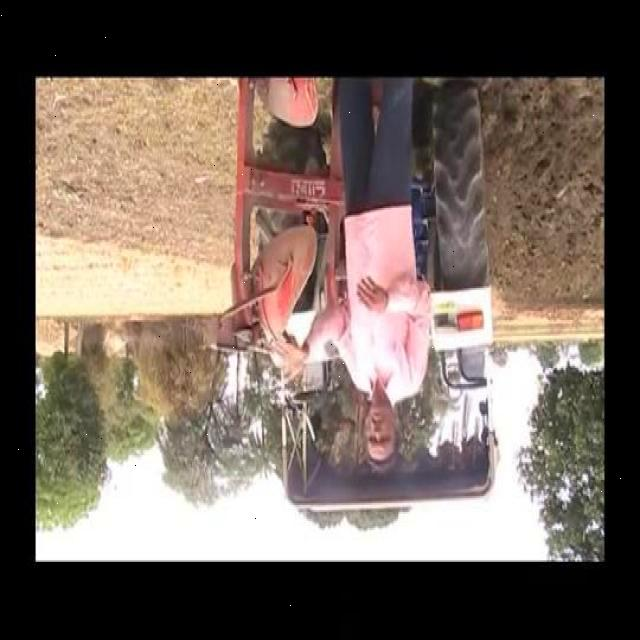Tratores - v5 YOLO V8L 2024-11-13: (208, 78, 501, 511)
